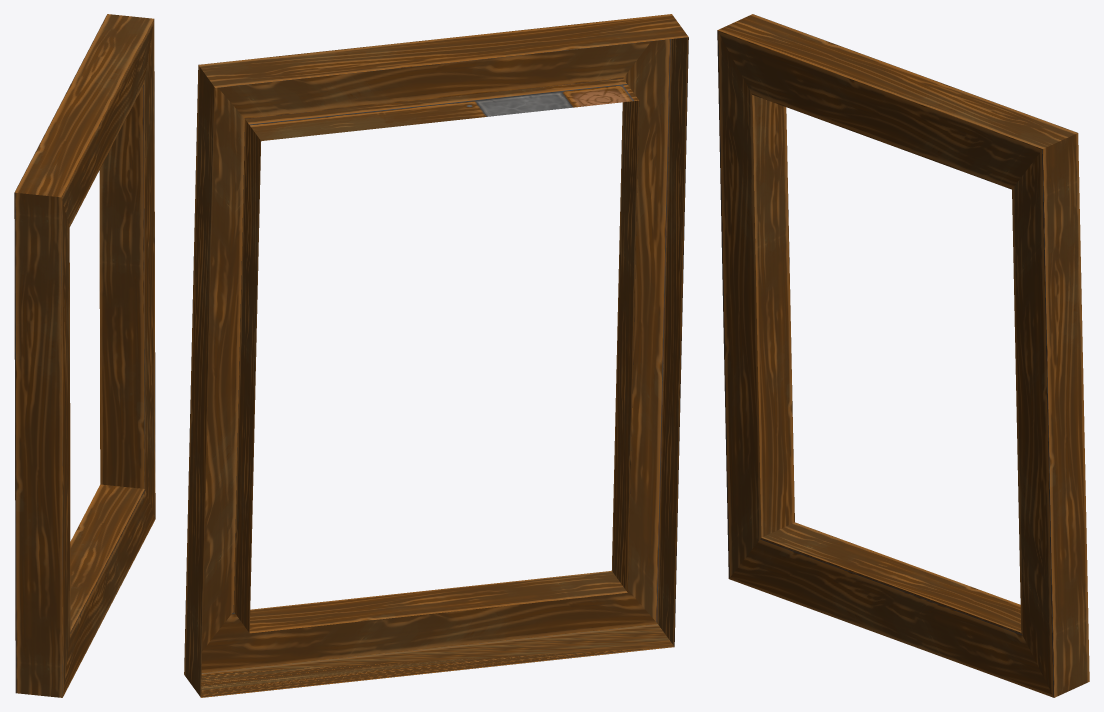
3 renders of one model, left to right at view 1: azimuth 30°, elevation 25°; view 2: azimuth 150°, elevation 25°; view 3: azimuth 270°, elevation 25°, orthographic. The views are drawn at different scales.
Visible parts, largest first — view 1: Cube.1919; view 2: Cube.1919; view 3: Cube.1919.
Part boxes in pixels (left/top/right/bottom): Cube.1919: left=14, top=14, right=155, bottom=697; Cube.1919: left=184, top=14, right=688, bottom=697; Cube.1919: left=717, top=14, right=1089, bottom=697.
Size of the model in its own units: 123 by 216 by 131.
Materials: 1 (1 with a texture image).
